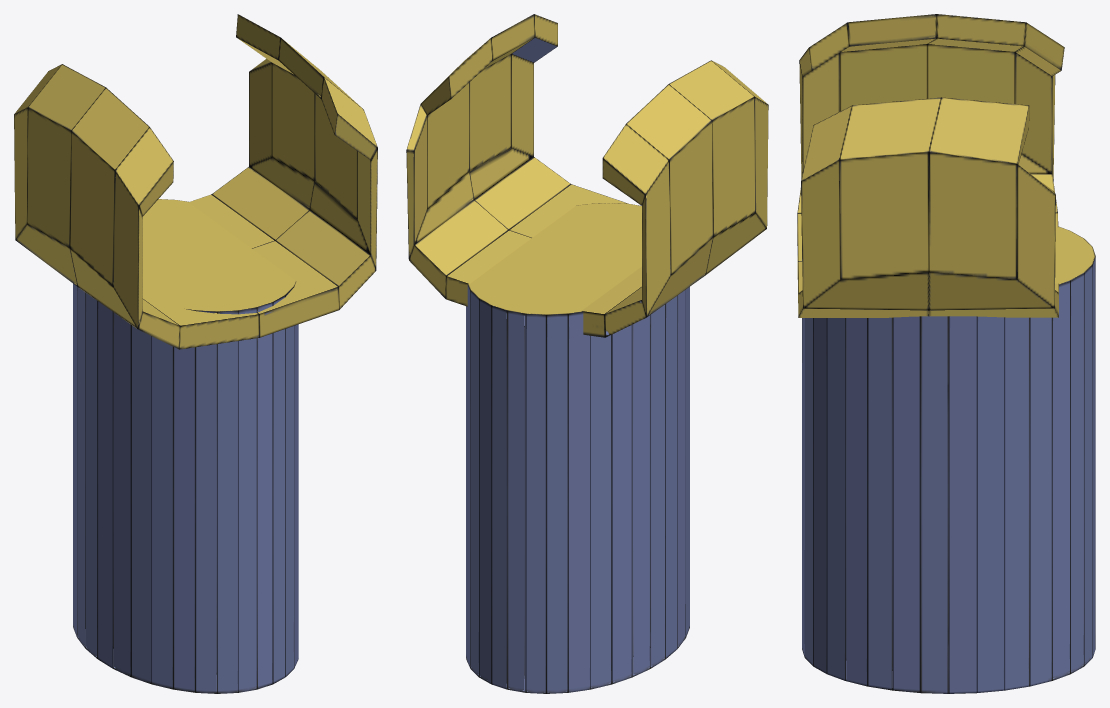
File: Hand.fbx
3 renders of one model, left to right at view 1: azimuth 30°, elevation 25°; view 2: azimuth 150°, elevation 25°; view 3: azimuth 270°, elevation 25°, orthographic. The views are drawn at different scales.
Visible parts, largest first — view 1: Cylinder; view 2: Cylinder; view 3: Cylinder.
Boxes of the visible parts, bbox=[...] form: Cylinder: bbox=[14, 14, 377, 693]; Cylinder: bbox=[406, 14, 768, 693]; Cylinder: bbox=[797, 14, 1095, 693].
Size of the model in its own units: 151 by 332 by 150.
